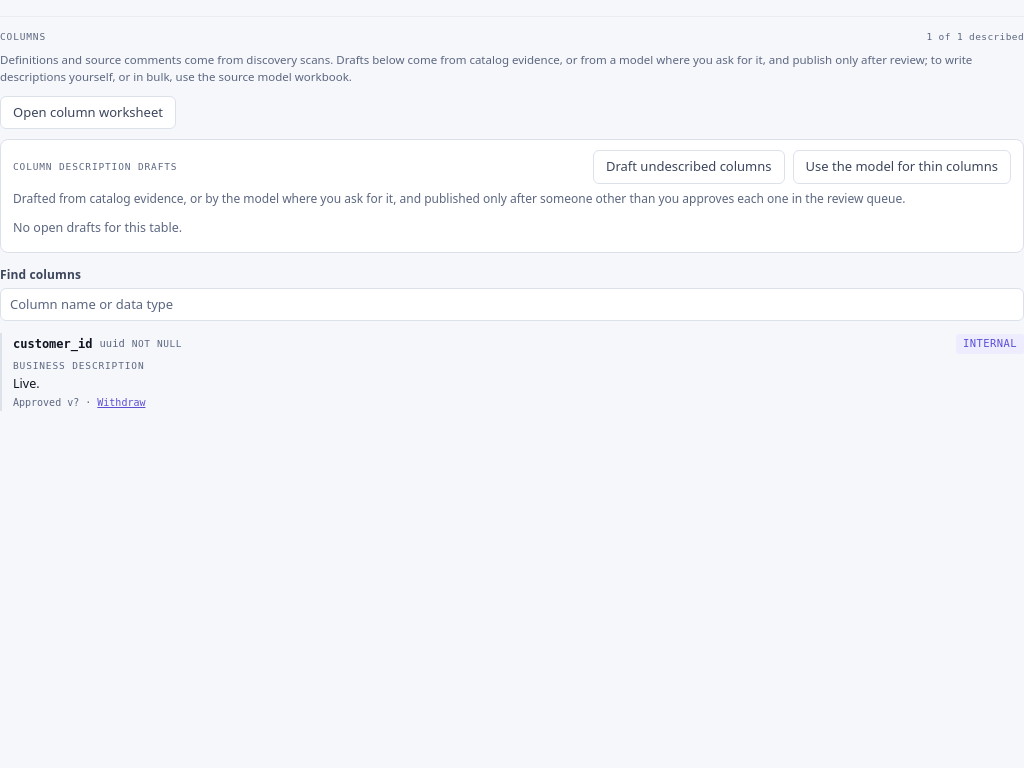
Test: refuses to send without a reason, and says so instead of failing silently
The width and height of the screenshot is (1024, 768).
Click the button "Withdraw". click: {"x": 121, "y": 403}
box: [97,397,146,408]
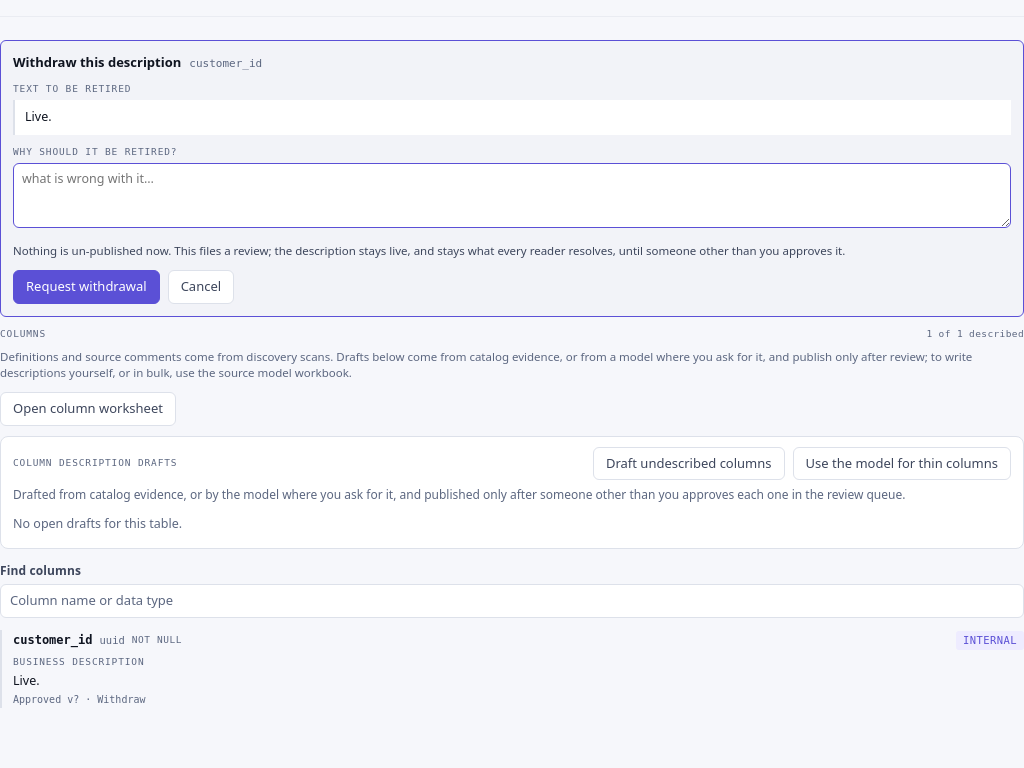
expect the dialog is shown: met, box [0,40,1023,316]
Click the button "Request withdrawal". click: {"x": 86, "y": 287}
box: [13,270,160,304]
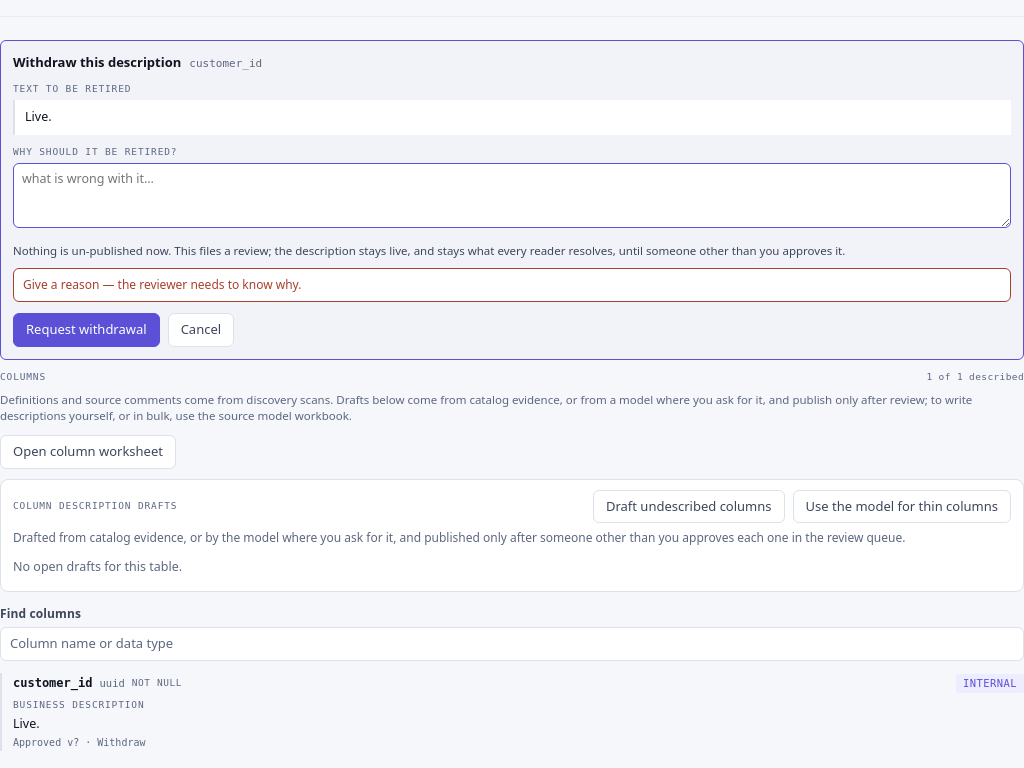
expect the text "Give a reason — the reviewer needs to know why." is shown: met, box [13,268,1011,302]
